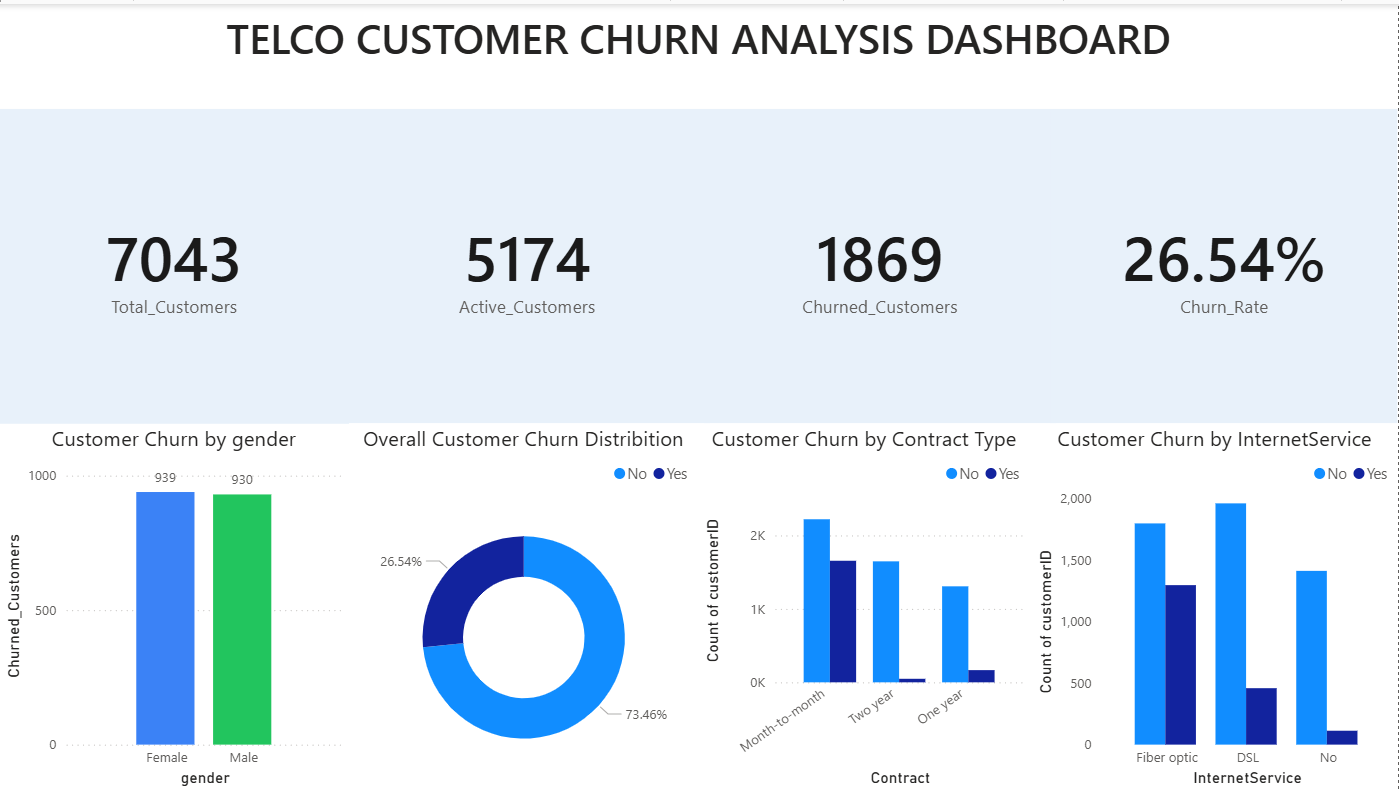

Layout of this report page (visuals, bound fields, positions):
{"tool":"powerbi","page":{"name":"Page 1","canvas":[1280,720],"ordinal":0},"visuals":[{"type":"card","fields":{"Values":["WA_Fn-UseC_-Telco-Customer-Churn.Total_Customers"]},"box":[0,96,320,288],"z":0},{"type":"card","fields":{"Values":["WA_Fn-UseC_-Telco-Customer-Churn.Active_Customers"]},"box":[315.4,96,334.5,287.2],"z":1000},{"type":"card","fields":{"Values":["WA_Fn-UseC_-Telco-Customer-Churn.Churned_Customers"]},"box":[645.3,96,321.3,287.2],"z":2000},{"type":"card","fields":{"Values":["WA_Fn-UseC_-Telco-Customer-Churn.Churn_Rate"]},"box":[961.9,96,317.5,287.2],"z":3000},{"type":"clusteredColumnChart","title":"Customer Churn by gender","fields":{"Category":["WA_Fn-UseC_-Telco-Customer-Churn.gender"],"Y":["WA_Fn-UseC_-Telco-Customer-Churn.Churned_Customers"]},"box":[0,384,320,336],"z":4000},{"type":"donutChart","title":"Overall Customer Churn Distribition","fields":{"Category":["WA_Fn-UseC_-Telco-Customer-Churn.Churn"],"Y":["Count(WA_Fn-UseC_-Telco-Customer-Churn.customerID)"]},"box":[320,384,320,336],"z":5000},{"type":"clusteredColumnChart","title":"Customer Churn by Contract Type","fields":{"Category":["WA_Fn-UseC_-Telco-Customer-Churn.Contract"],"Y":["CountNonNull(WA_Fn-UseC_-Telco-Customer-Churn.customerID)"],"Series":["WA_Fn-UseC_-Telco-Customer-Churn.Churn"]},"box":[640,384,304,336],"z":6000},{"type":"clusteredColumnChart","title":"Customer Churn by InternetService ","fields":{"Category":["WA_Fn-UseC_-Telco-Customer-Churn.InternetService"],"Series":["WA_Fn-UseC_-Telco-Customer-Churn.Churn"],"Y":["CountNonNull(WA_Fn-UseC_-Telco-Customer-Churn.customerID)"]},"box":[944,384,336,336],"z":7000},{"type":"shape","box":[0,0,1280,96],"z":8001},{"type":"textbox","box":[0,0,1280,96],"z":8501}]}

Visuals, with their boxes in screenshot pixels (x1, y1, x2, y2), scaled from the page's 1280x720 canvas onto the 1399x789 screenshot:
card - WA_Fn-UseC_-Telco-Customer-Churn.Total_Customers: bbox=[0, 105, 350, 421]
card - WA_Fn-UseC_-Telco-Customer-Churn.Active_Customers: bbox=[345, 105, 710, 420]
card - WA_Fn-UseC_-Telco-Customer-Churn.Churned_Customers: bbox=[705, 105, 1056, 420]
card - WA_Fn-UseC_-Telco-Customer-Churn.Churn_Rate: bbox=[1051, 105, 1398, 420]
"Customer Churn by gender" clusteredColumnChart: bbox=[0, 421, 350, 788]
"Overall Customer Churn Distribition" donutChart: bbox=[350, 421, 700, 788]
"Customer Churn by Contract Type" clusteredColumnChart: bbox=[700, 421, 1032, 788]
"Customer Churn by InternetService " clusteredColumnChart: bbox=[1032, 421, 1398, 788]
shape: bbox=[0, 0, 1398, 105]
textbox: bbox=[0, 0, 1398, 105]
